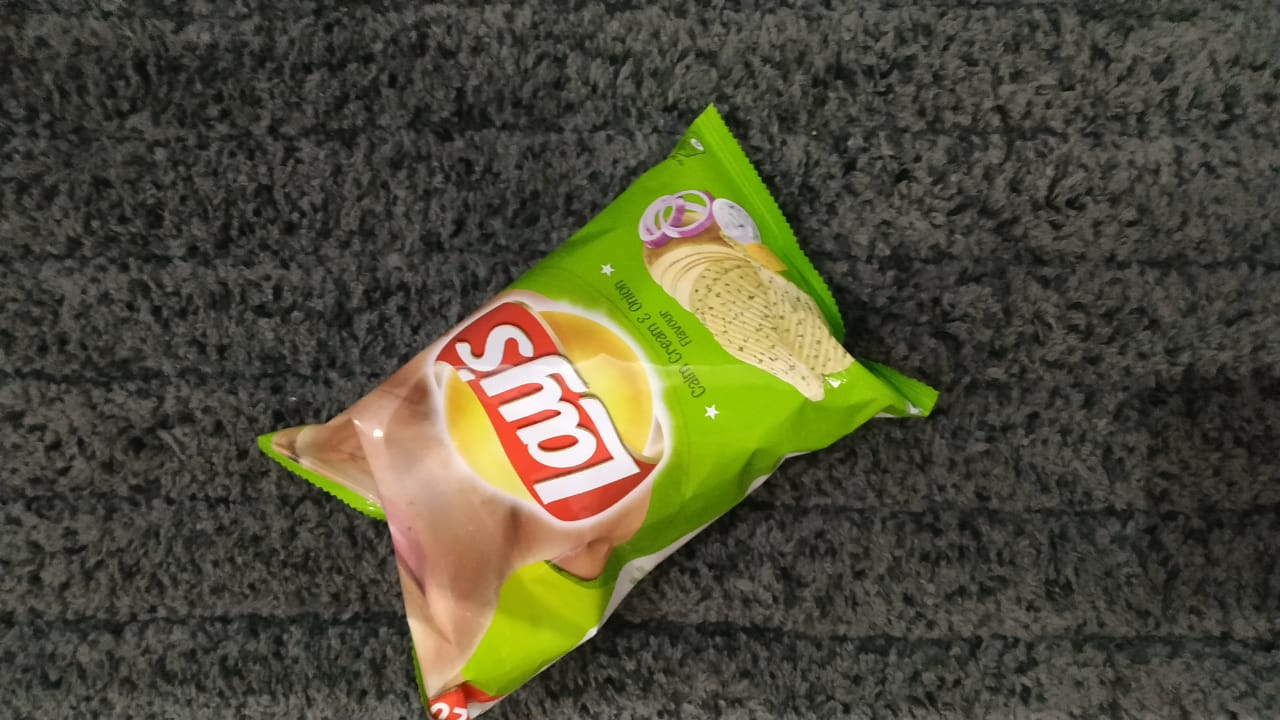lays chips: (243, 75, 984, 720)
